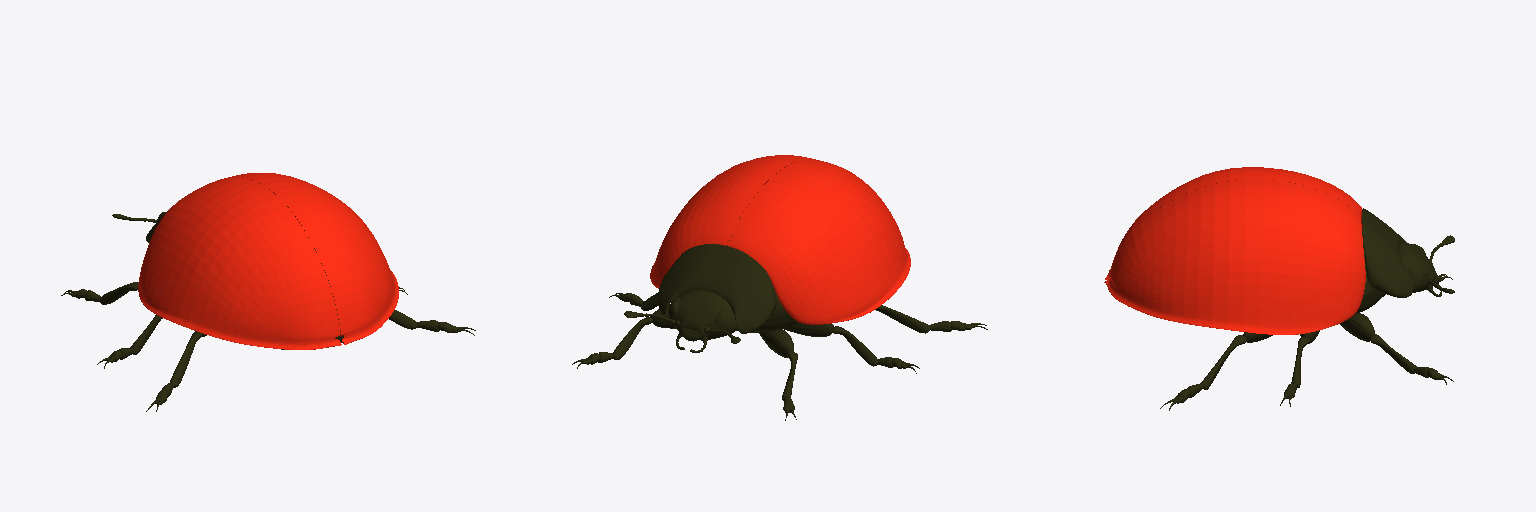
File: ladybird.obj
3 views of the same model, side by side, from view 1: azimuth 30°, elevation 25°; view 2: azimuth 150°, elevation 25°; view 3: azimuth 270°, elevation 25° (orthographic).
Visible parts, largest first — view 1: Ladybird HN Body WingLeft, Ladybird HN Body WingsRight, Ladybird HN Body Symmetry Half Legs Rear Femur Tibia1; view 2: Ladybird HN Body WingLeft, Ladybird HN Body WingsRight, Ladybird HN Body Thorax, Ladybird HN Body Head, Ladybird HN Body Symmetry Half Legs Front Femur2, Ladybird HN Body Symmetry Half Legs Front Femur2 Tibia2, Ladybird HN Body Symmetry Half Legs Middle Femur1 Tibia, Ladybird HN Body Body1, Ladybird HN Body Symmetry Half Legs Middle Femur1 Tibia Tarsus11; view 3: Ladybird HN Body WingsRight, Ladybird HN Body Thorax, Ladybird HN Body WingLeft, Ladybird HN Body Head, Ladybird HN Body Symmetry Half Legs Front Femur2.
Part boxes in pixels (x1,y1,x2,y2): Ladybird HN Body WingLeft: (138, 176, 347, 349); Ladybird HN Body WingsRight: (232, 173, 398, 343); Ladybird HN Body Symmetry Half Legs Rear Femur Tibia1: (170, 310, 417, 387); Ladybird HN Body WingLeft: (728, 159, 910, 324); Ladybird HN Body WingsRight: (650, 155, 811, 288); Ladybird HN Body Thorax: (658, 244, 776, 333); Ladybird HN Body Head: (668, 290, 736, 341); Ladybird HN Body Symmetry Half Legs Front Femur2: (651, 305, 793, 357); Ladybird HN Body Symmetry Half Legs Front Femur2 Tibia2: (613, 317, 797, 400); Ladybird HN Body Symmetry Half Legs Middle Femur1 Tibia: (641, 293, 877, 366); Ladybird HN Body Body1: (727, 217, 798, 332); Ladybird HN Body Symmetry Half Legs Middle Femur1 Tibia Tarsus11: (609, 293, 919, 373); Ladybird HN Body WingsRight: (1104, 180, 1365, 334); Ladybird HN Body Thorax: (1362, 208, 1412, 297); Ladybird HN Body WingLeft: (1105, 167, 1362, 282); Ladybird HN Body Head: (1400, 242, 1437, 292); Ladybird HN Body Symmetry Half Legs Front Femur2: (1340, 313, 1374, 341).
Size of the model in its own units: 839 by 371 by 773.